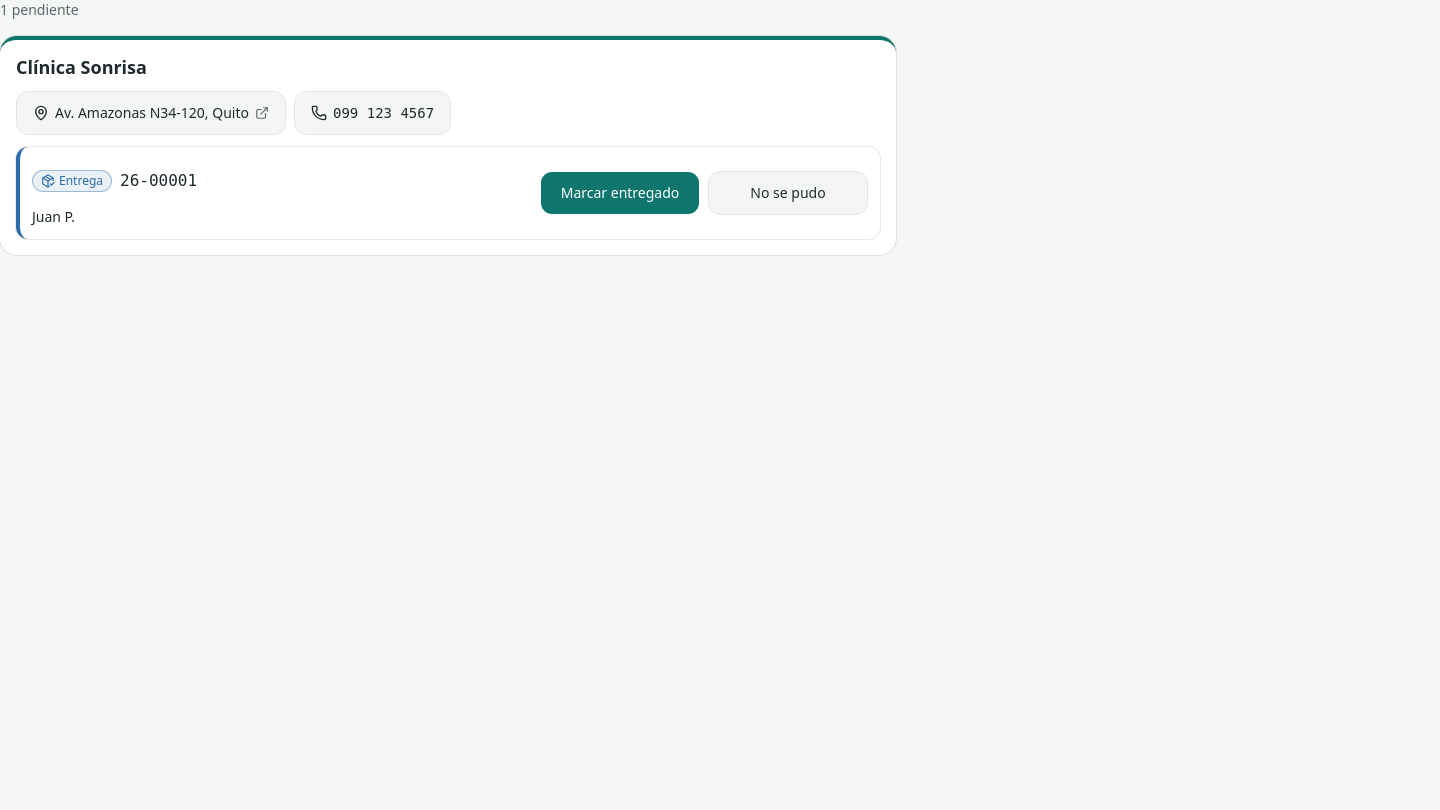
Test: DeliveriesDay › «No se pudo» abre el diálogo de motivo y nueva fecha
Click the button "No se pudo".
click(788, 192)  # box [708,170,868,214]
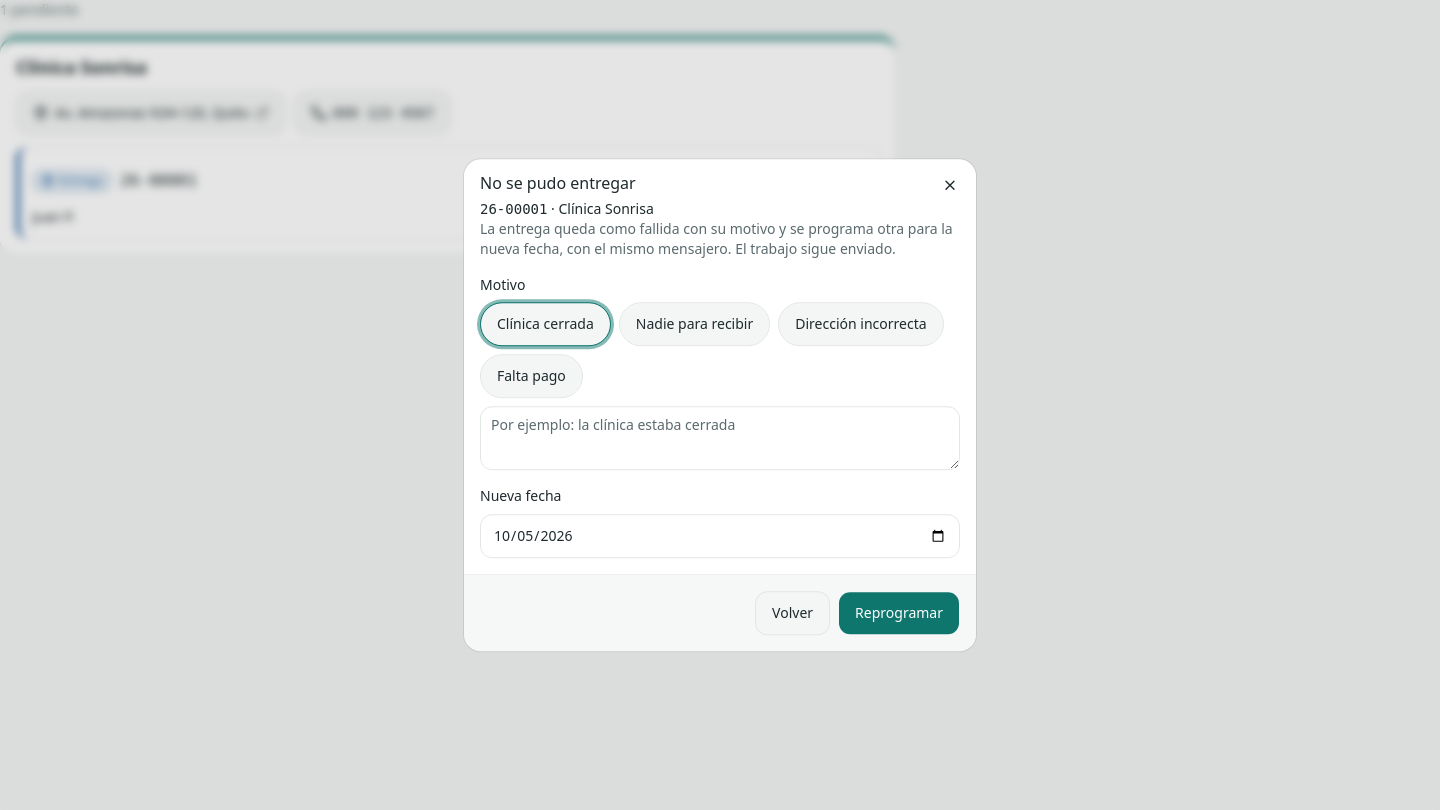
Expected: the text box labelled "Motivo" is shown, [480,406,960,470]
Expected: the date field labelled "Nueva fecha" is shown, [480,514,960,558]
